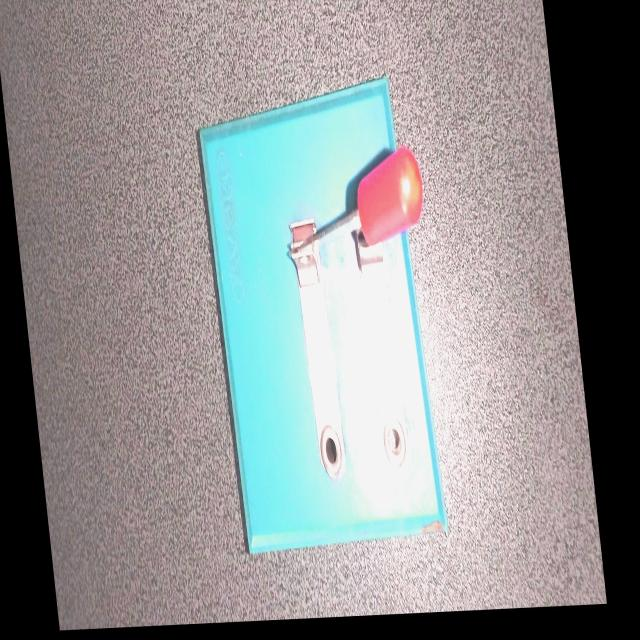L Switch: (177, 59, 473, 580)
